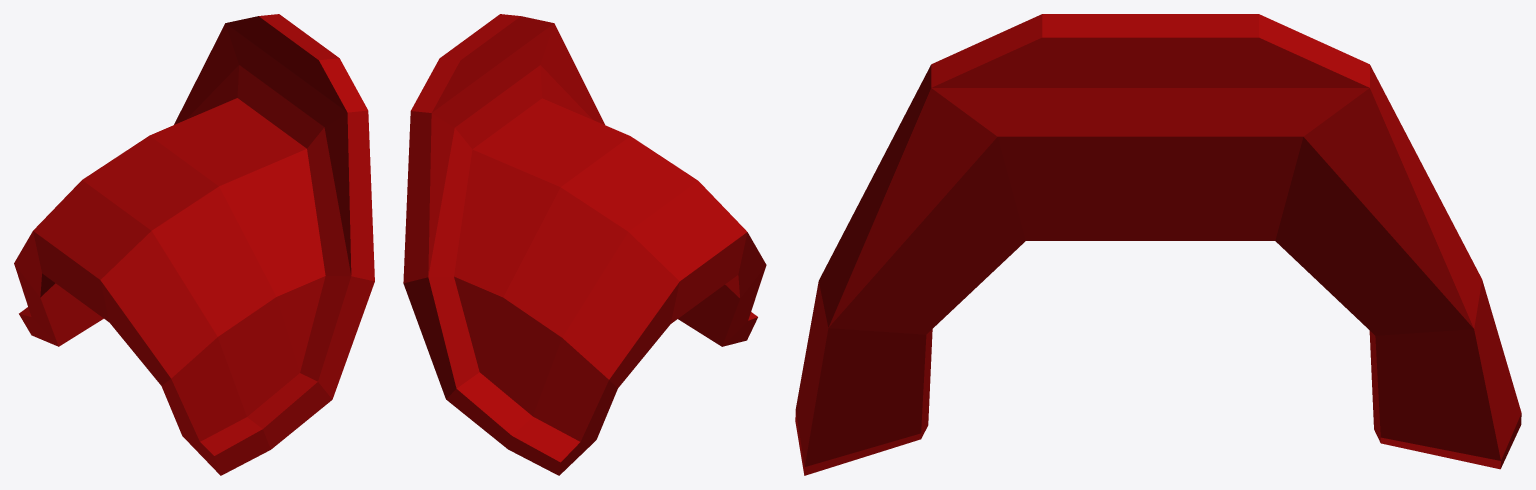
The model's file is Chr_ShoulderAttachRight_Static_12.fbx.
3 renders of one model, left to right at view 1: azimuth 30°, elevation 25°; view 2: azimuth 150°, elevation 25°; view 3: azimuth 270°, elevation 25°, orthographic. The views are drawn at different scales.
Parts seen in each view (by area): view 1: Chr_ShoulderAttachRight_12; view 2: Chr_ShoulderAttachRight_12; view 3: Chr_ShoulderAttachRight_12.
Part boxes in pixels (box(x1,y1,x2,y2)): Chr_ShoulderAttachRight_12: box(14, 14, 374, 475); Chr_ShoulderAttachRight_12: box(403, 14, 766, 475); Chr_ShoulderAttachRight_12: box(795, 14, 1521, 475).
Bounding box in the file's own units: 20.25 × 26.16 × 29.09.
